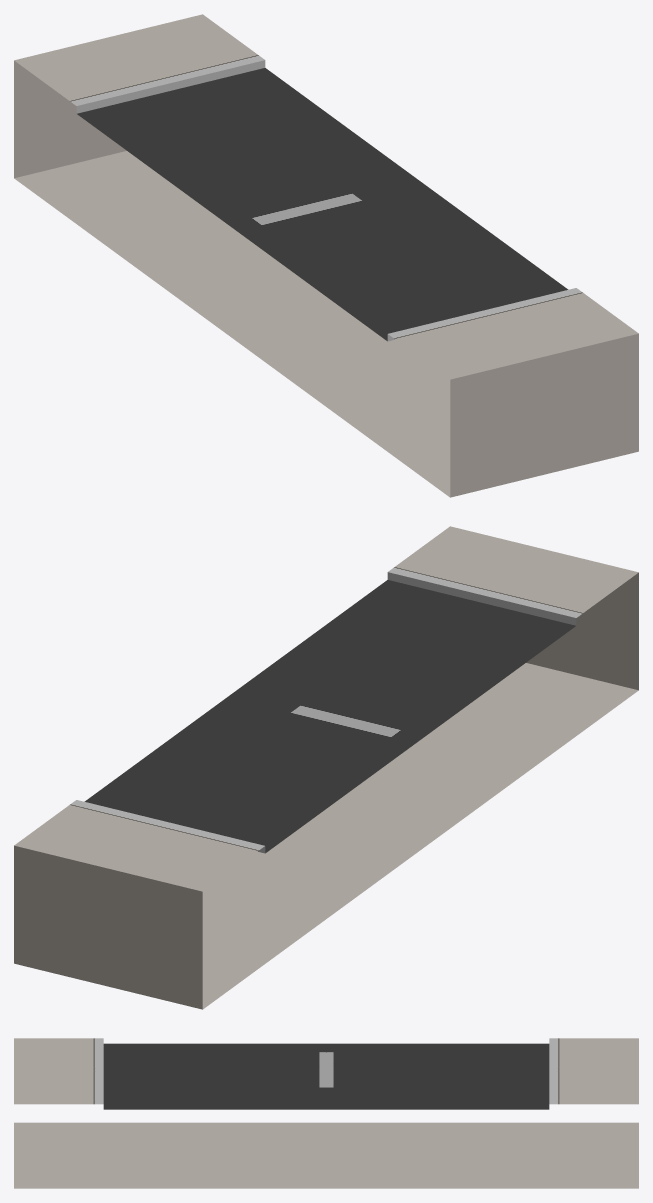
The model's file is road_straight_mesh.FBX.
3 views of the same model, one above another, from view 1: azimuth 30°, elevation 25°; view 2: azimuth 150°, elevation 25°; view 3: azimuth 270°, elevation 25° (orthographic). The views are drawn at different scales.
Visible parts, largest first — view 1: road_straight_mesh; view 2: road_straight_mesh; view 3: road_straight_mesh.
Boxes of the visible parts, <box> form: road_straight_mesh: <box>14,14,638,497</box>; road_straight_mesh: <box>14,526,638,1009</box>; road_straight_mesh: <box>14,1038,638,1188</box>.
Size of the model in its own units: 5 by 2.99 by 20.01.
Materials: 1 (1 with a texture image).
